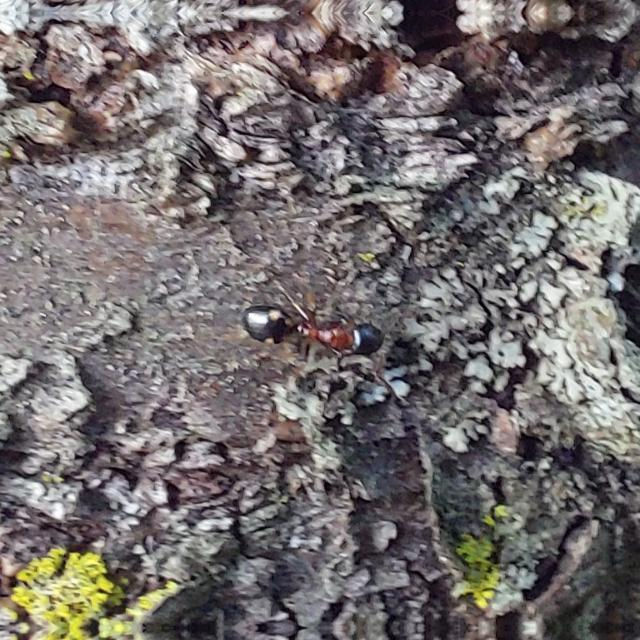Dolichoderus: (220, 269, 416, 381)
